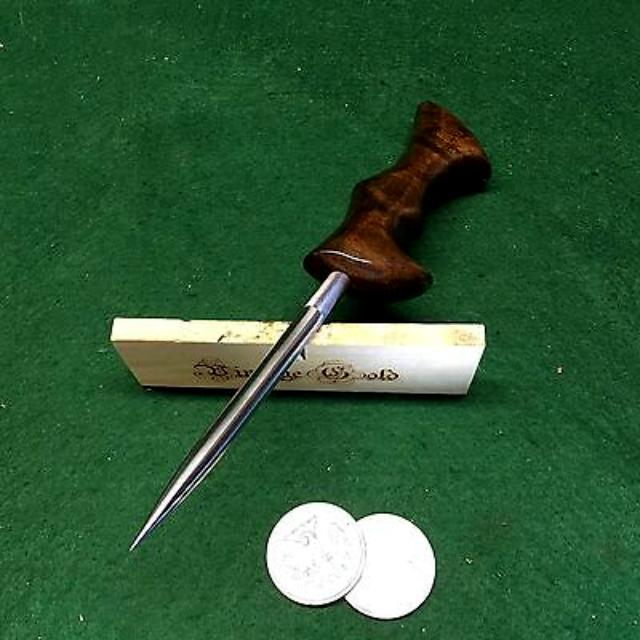ice pick: (128, 100, 492, 550)
